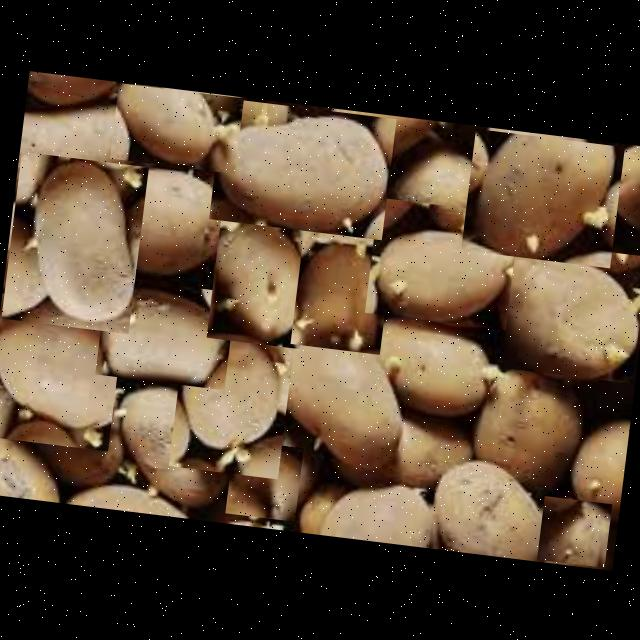Sprouted potato: (0, 150, 147, 332), (208, 96, 396, 238), (460, 128, 624, 266), (364, 196, 528, 330), (499, 239, 640, 382), (0, 292, 124, 450), (168, 326, 294, 478), (99, 384, 231, 514), (94, 276, 235, 388), (205, 213, 314, 348), (289, 224, 393, 354), (109, 81, 242, 172), (299, 467, 438, 546), (562, 410, 630, 520), (224, 438, 302, 520), (536, 494, 610, 566)
